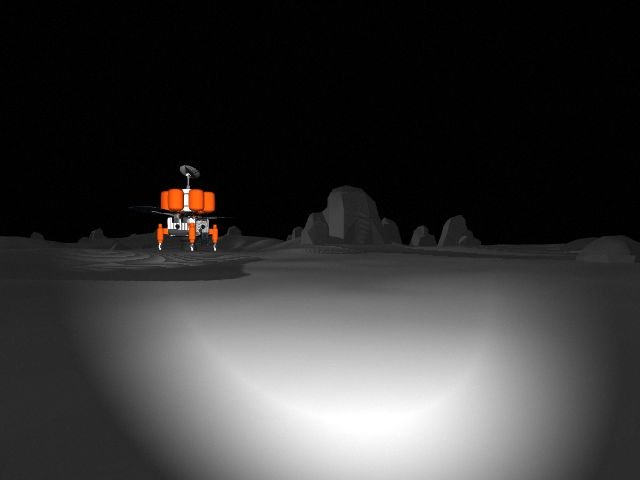homebase: (129, 163, 231, 253)
